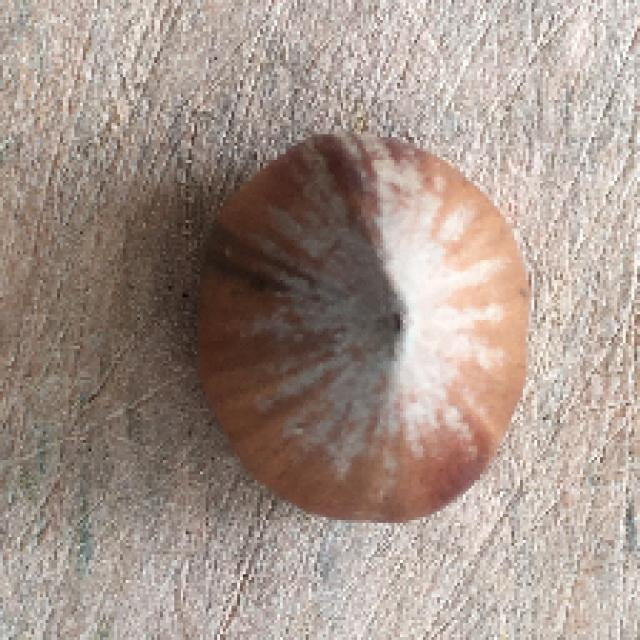qualityHazelnut: (189, 132, 537, 526)
